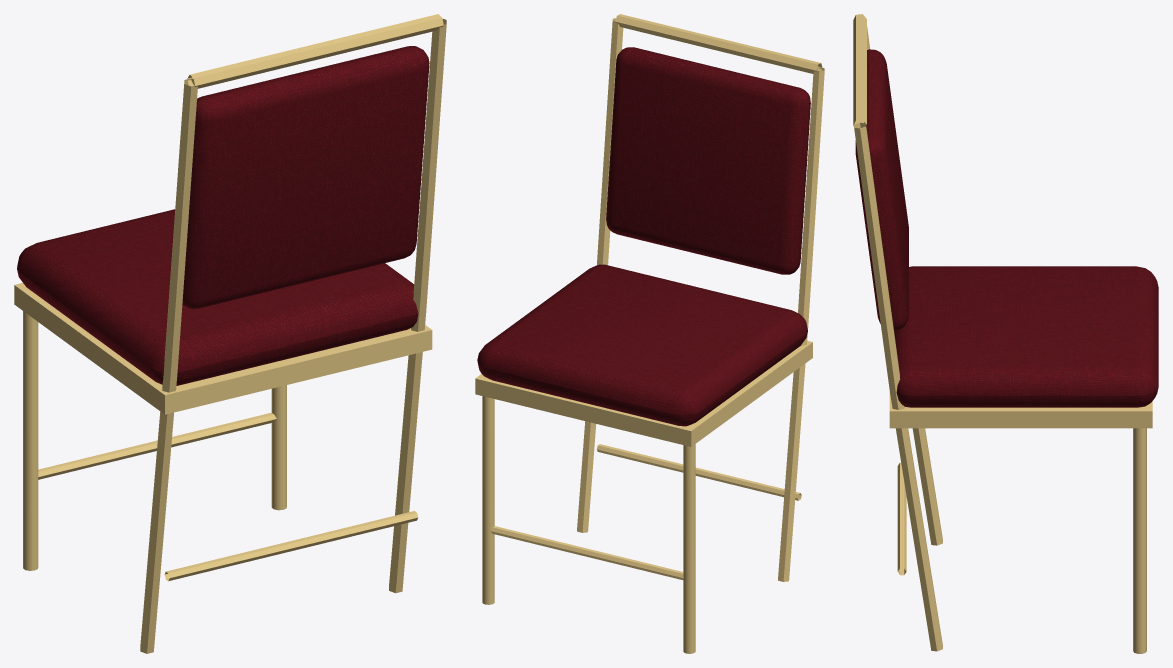
File: chair_banquet.gltf
3 views of the same model, side by side, from view 1: azimuth 30°, elevation 25°; view 2: azimuth 150°, elevation 25°; view 3: azimuth 270°, elevation 25° (orthographic). The views are drawn at different scales.
Parts seen in each view (by area): view 1: chair_banquet; view 2: chair_banquet; view 3: chair_banquet.
Boxes of the visible parts, left/top/right/bottom form: chair_banquet: left=14, top=14, right=446, bottom=653; chair_banquet: left=475, top=14, right=824, bottom=653; chair_banquet: left=853, top=14, right=1158, bottom=653.
Size of the model in its own units: 0.44 by 0.9366 by 0.4882.
Materials: 2 (1 with a texture image).
